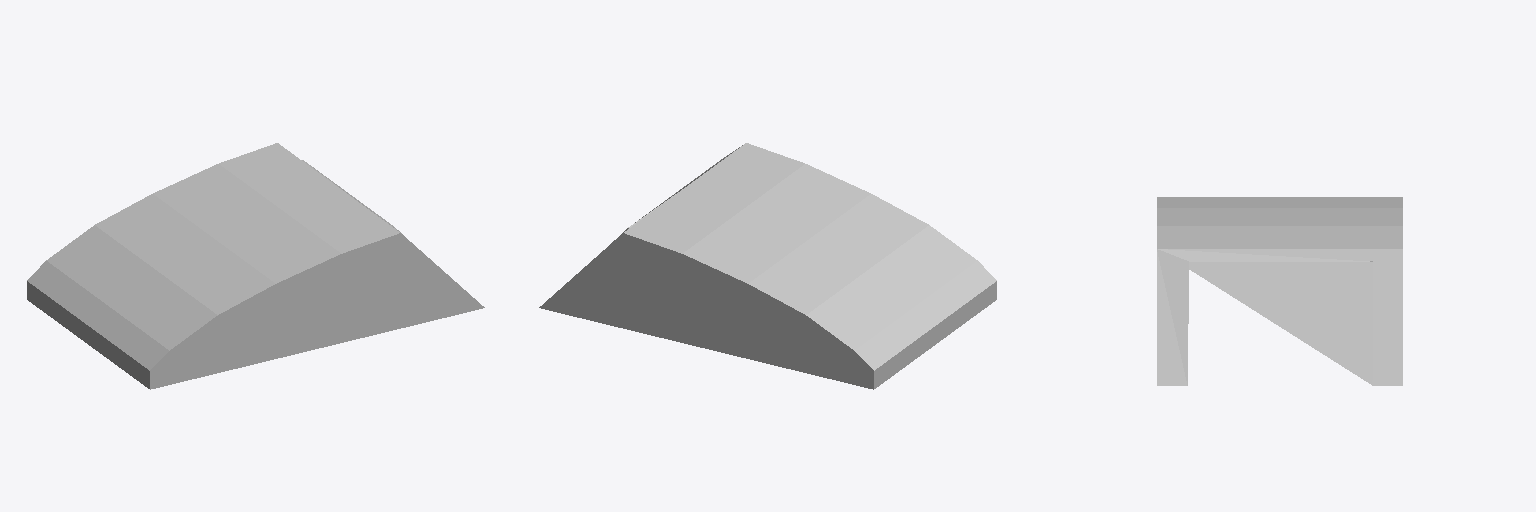
The model's file is marker.obj.
3 renders of one model, left to right at view 1: azimuth 30°, elevation 25°; view 2: azimuth 150°, elevation 25°; view 3: azimuth 270°, elevation 25°, orthographic.
Parts seen in each view (by area): view 1: Cube; view 2: Cube; view 3: Cube.
Part boxes in pixels (left/top/right/bottom): Cube: left=27, top=143, right=484, bottom=389; Cube: left=539, top=143, right=996, bottom=389; Cube: left=1157, top=197, right=1402, bottom=385.
Bounding box in the file's own units: 1.83 × 0.4986 × 1.17.